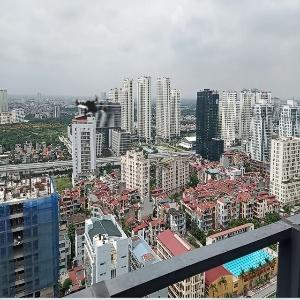drone: (43, 71, 143, 171)
